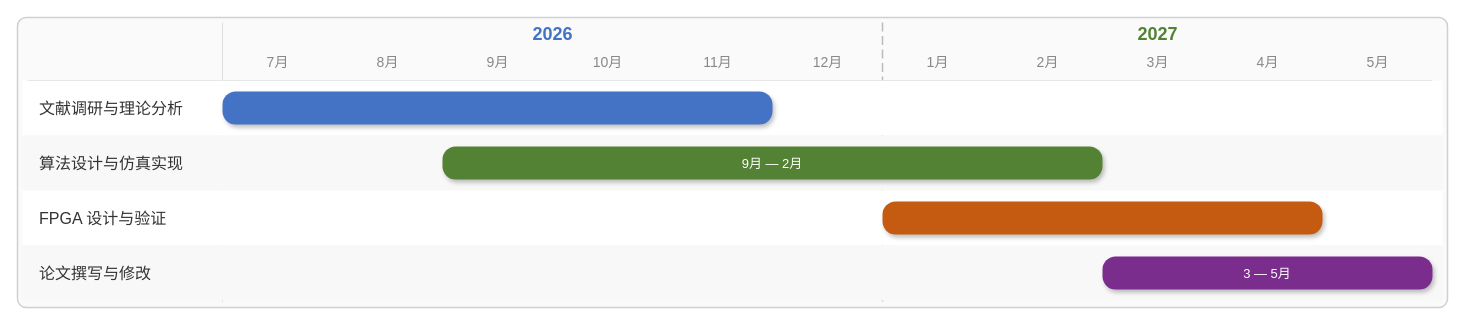
The diagram is 1466 pixels wide and 326 high, and some of its shapes have lost their labels. Here are the shapes that lost their labels. From the top down, the centre of each, then its label:
point 498,109: 7 — 11月
point 1103,219: 1 — 4月
